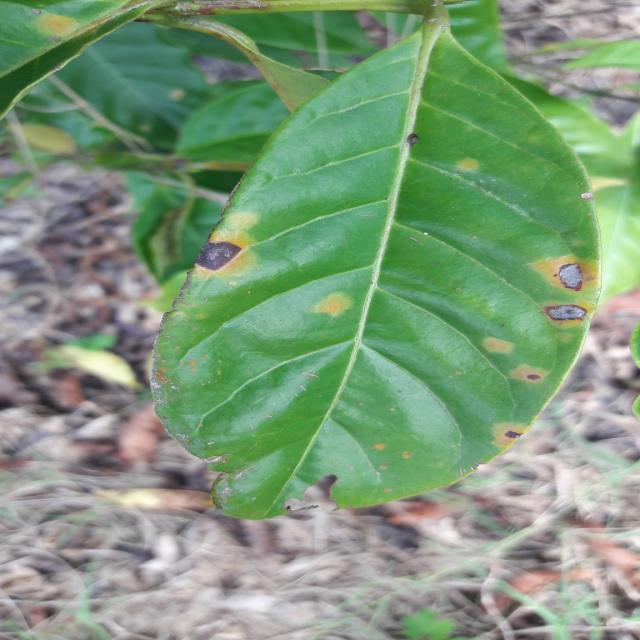Enfermedad-Roya: (151, 0, 601, 522)
